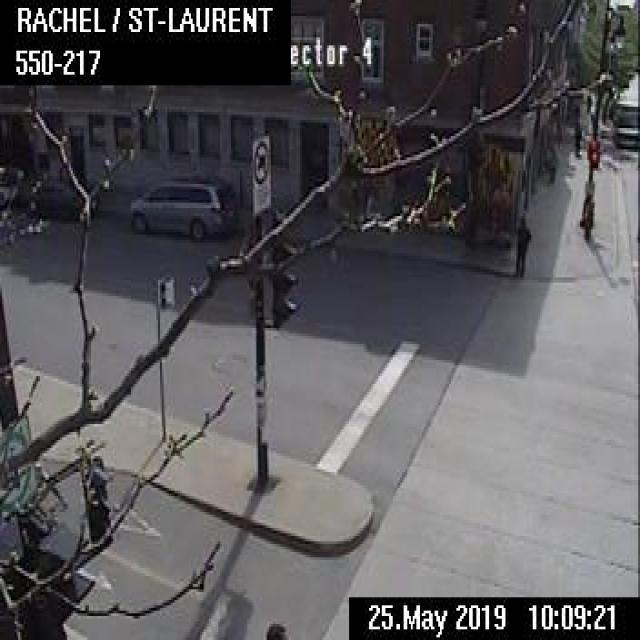pedestrian: (512, 211, 529, 277), (572, 118, 581, 155), (584, 91, 590, 112)
vehicle: (128, 175, 237, 236), (15, 172, 102, 219), (607, 99, 638, 149)
